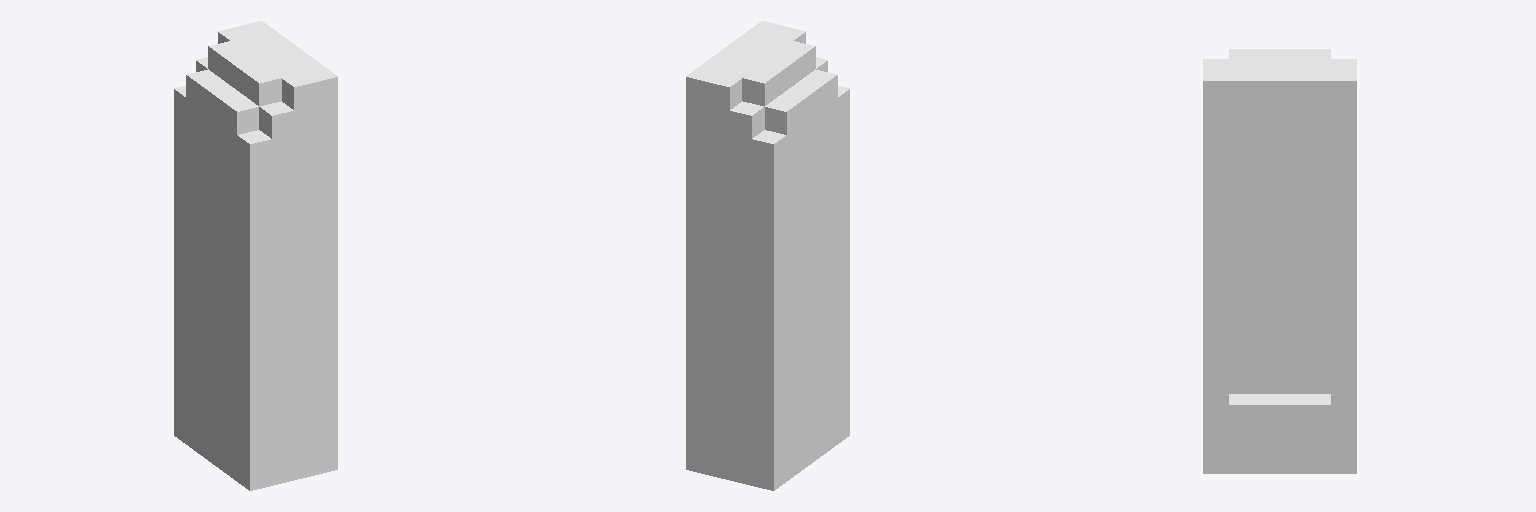
The model's file is civil2-3.obj.
3 views of the same model, side by side, from view 1: azimuth 30°, elevation 25°; view 2: azimuth 150°, elevation 25°; view 3: azimuth 270°, elevation 25° (orthographic).
Visible parts, largest first — view 1: object 1; view 2: object 1; view 3: object 1.
Part boxes in pixels (x1,y1,x2,y2): object 1: (174, 21, 337, 490); object 1: (686, 21, 849, 490); object 1: (1203, 49, 1356, 473).
Size of the model in its own units: 0.4 by 1.7 by 0.6.